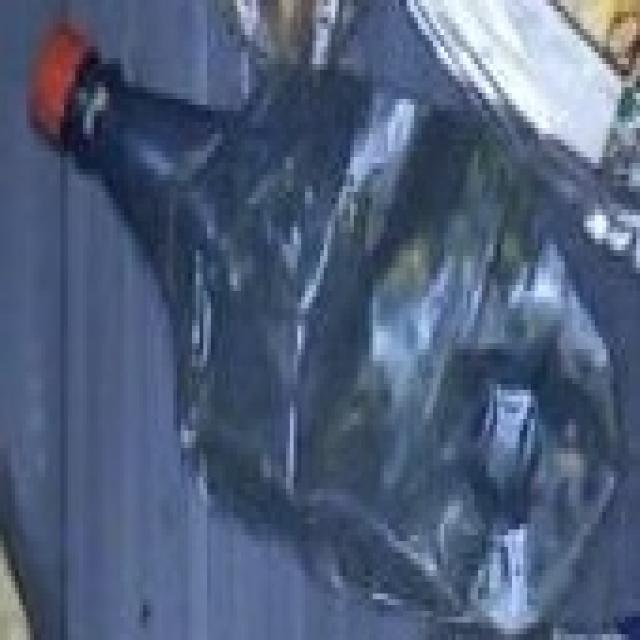plasticbottle: (35, 32, 630, 614)
